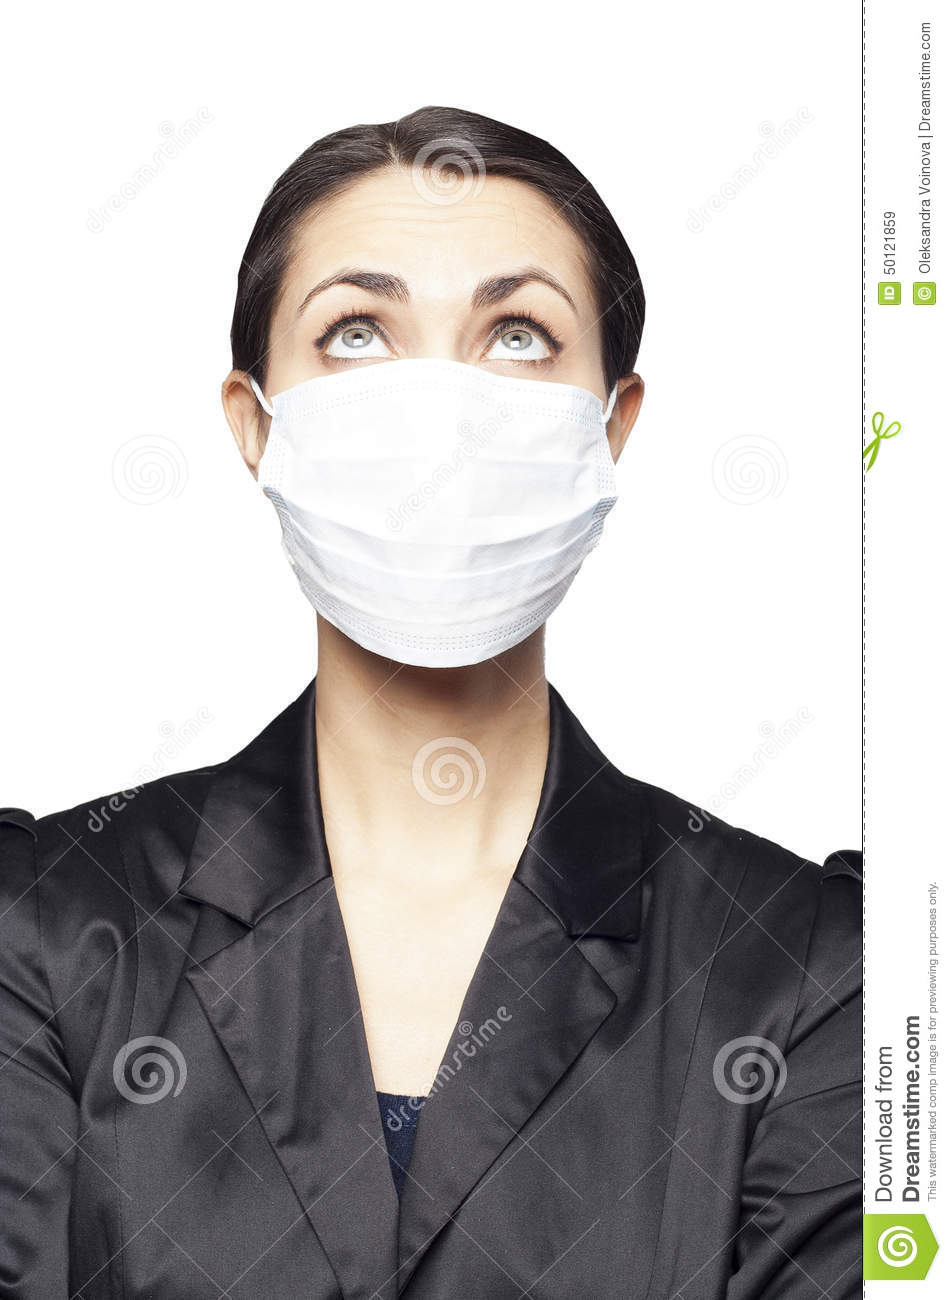mask: (266, 362, 618, 676)
